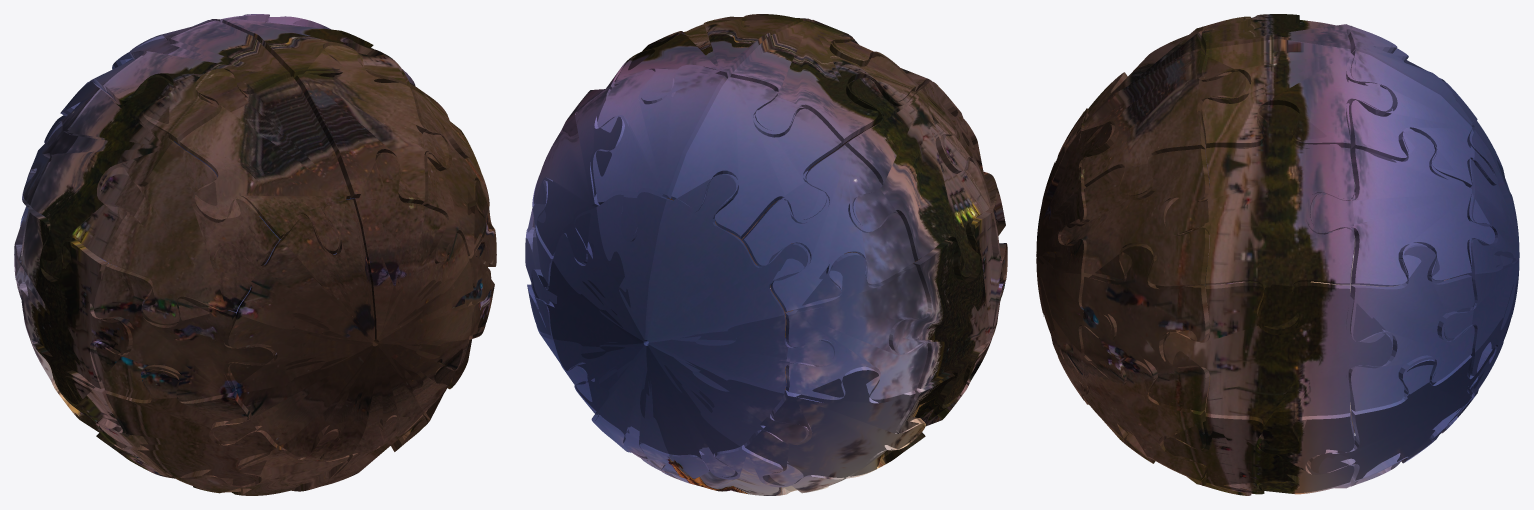
Rendered from easy-puzzle-v25.fbx.
The picture shows the model from 3 angles, left to right: view 1: azimuth 30°, elevation 25°; view 2: azimuth 150°, elevation 25°; view 3: azimuth 270°, elevation 25°; orthographic projection.
Parts seen in each view (by area): view 1: Puzzle.001, Puzzle.005, Puzzle.025, Puzzle.023, Puzzle.026, Puzzle.004, Puzzle.016, Puzzle.006, Puzzle.027, Puzzle.024, Puzzle.003, Puzzle.028 (+8 smaller); view 2: Puzzle.002, Puzzle.023, Puzzle.008, Puzzle.009, Puzzle.007, Puzzle.010, Puzzle.016, Puzzle.006, Puzzle.032, Puzzle.015, Puzzle.003, Puzzle.011 (+8 smaller); view 3: Puzzle.022, Puzzle.021, Puzzle.015, Puzzle.024, Puzzle.003, Puzzle.031, Puzzle.014, Puzzle.020, Puzzle.004, Puzzle.001, Puzzle.002, Puzzle.032 (+6 smaller).
Part boxes in pixels (x1,y1,x2,y2): Puzzle.001: (213, 153, 489, 459); Puzzle.005: (179, 71, 350, 254); Puzzle.025: (100, 145, 279, 324); Puzzle.023: (31, 77, 177, 279); Puzzle.026: (93, 263, 275, 400); Puzzle.004: (294, 45, 448, 204); Puzzle.016: (15, 210, 132, 404); Puzzle.006: (105, 20, 290, 144); Puzzle.027: (99, 369, 277, 485); Puzzle.024: (411, 89, 488, 264); Puzzle.003: (222, 14, 407, 85); Puzzle.028: (178, 429, 357, 495); Puzzle.002: (532, 174, 834, 477); Puzzle.023: (843, 77, 990, 278); Puzzle.008: (742, 145, 914, 312); Puzzle.009: (785, 252, 927, 399); Puzzle.007: (671, 77, 842, 239); Puzzle.010: (744, 366, 922, 485); Puzzle.016: (889, 211, 1006, 404); Puzzle.006: (730, 21, 916, 144); Puzzle.032: (593, 68, 727, 235); Puzzle.015: (533, 89, 624, 264); Puzzle.003: (614, 14, 799, 104); Puzzle.011: (664, 445, 843, 495); Puzzle.022: (1163, 105, 1354, 329); Puzzle.021: (1164, 282, 1392, 450); Puzzle.015: (1310, 131, 1495, 286); Puzzle.024: (1060, 148, 1209, 286); Puzzle.003: (1201, 38, 1392, 148); Puzzle.031: (1081, 244, 1209, 411); Puzzle.014: (1348, 244, 1474, 411); Puzzle.020: (1163, 411, 1354, 493); Puzzle.004: (1081, 50, 1250, 195); Puzzle.001: (1036, 112, 1114, 400); Puzzle.002: (1444, 82, 1519, 423); Puzzle.032: (1349, 50, 1494, 187).
Bounding box in the file's own units: 6.91 × 6.94 × 6.93.
